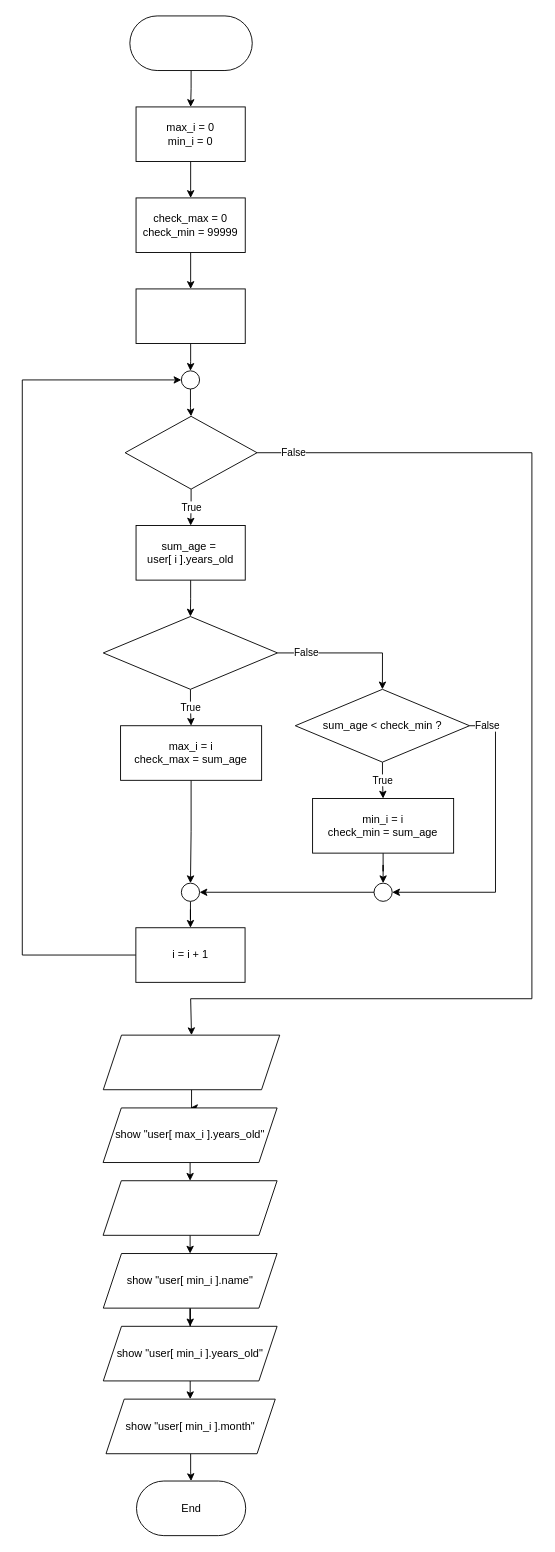
Some shapes in this 555 by 1552 pixel diagram are drawn without their labels. Each missing label, with the box of its shape:
i < count_data ?: (124, 415, 257, 489)
i = 0: (135, 288, 245, 344)
max_min_age_user ( user[], count_data ): (129, 15, 252, 71)
show "user[ max_i ].month": (102, 1180, 277, 1235)
show "user[ max_i ].name": (102, 1034, 280, 1090)
sum_age > check_max ?: (102, 616, 278, 689)
